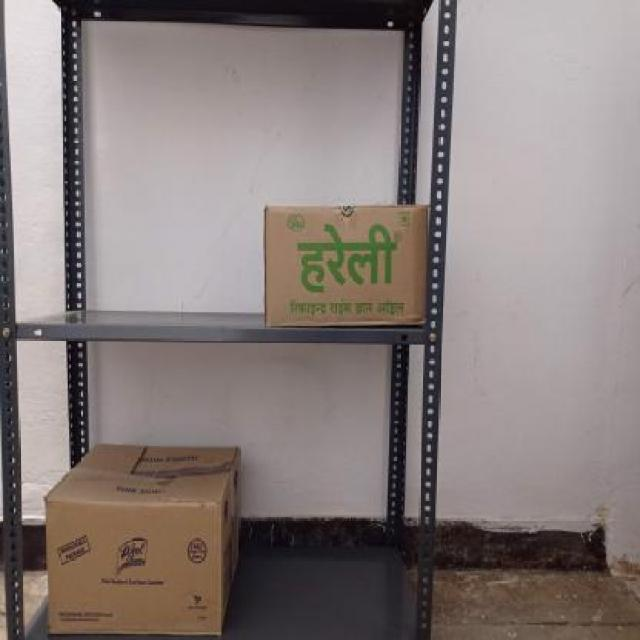box: (45, 496, 224, 638), (264, 205, 424, 324)
